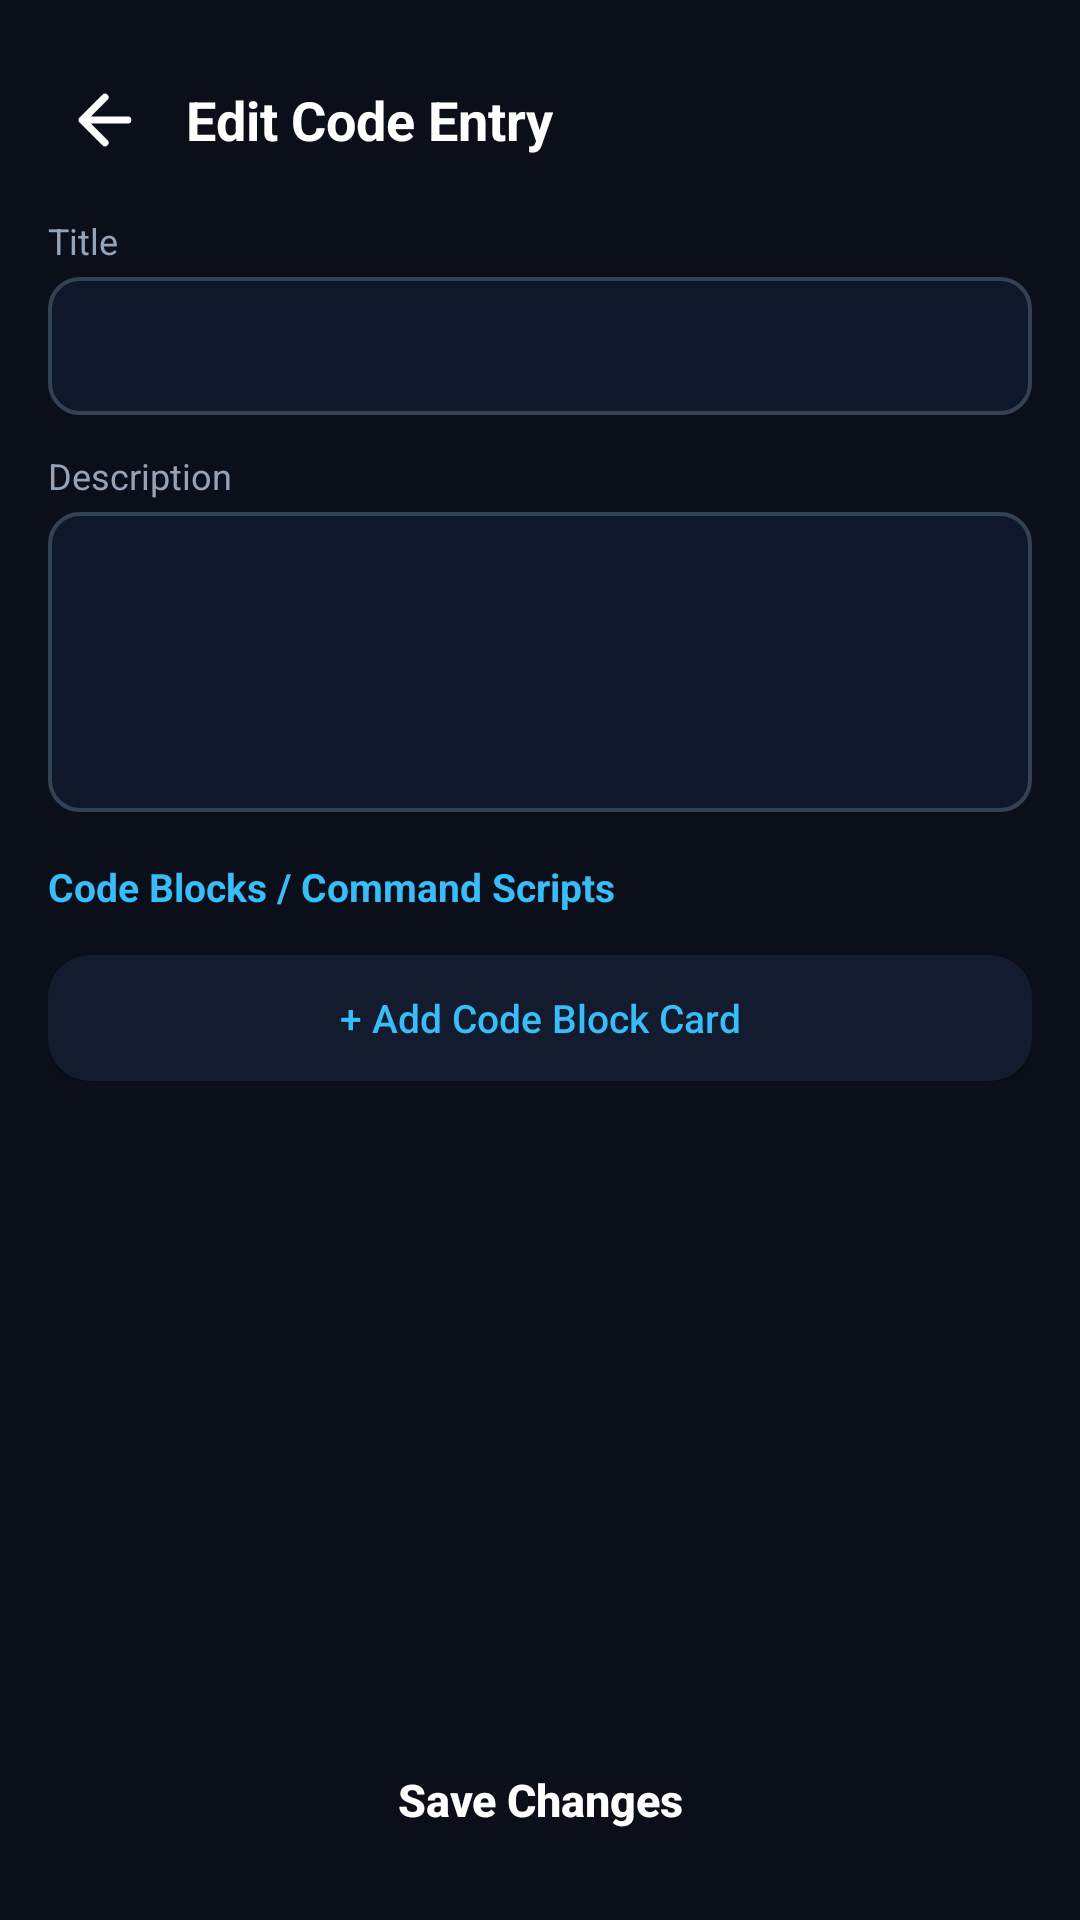

Named icons in this screenshot (1080px x 1920px) and their centers, point (x, y):
arrow back: point (105, 120)
